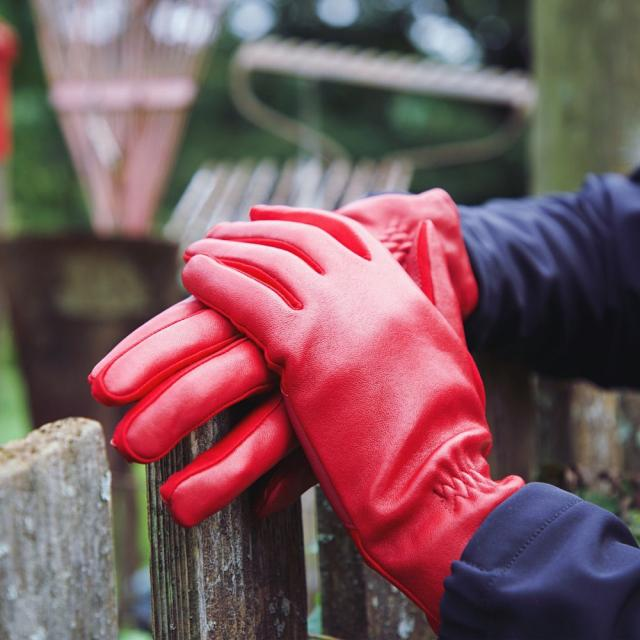gloves: (167, 192, 534, 622), (80, 182, 492, 527)
